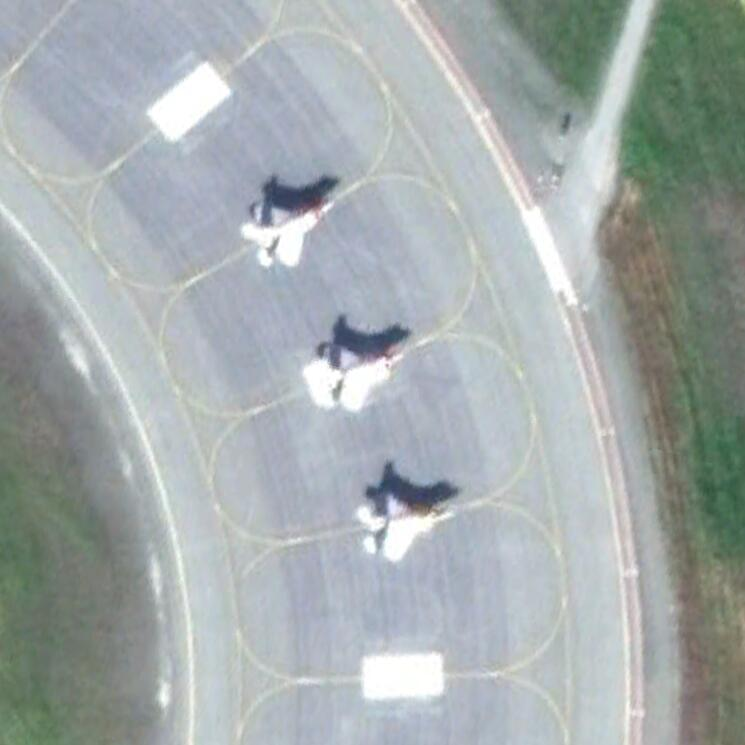A15: (304, 340, 408, 415), (240, 194, 335, 274), (357, 487, 456, 563)
